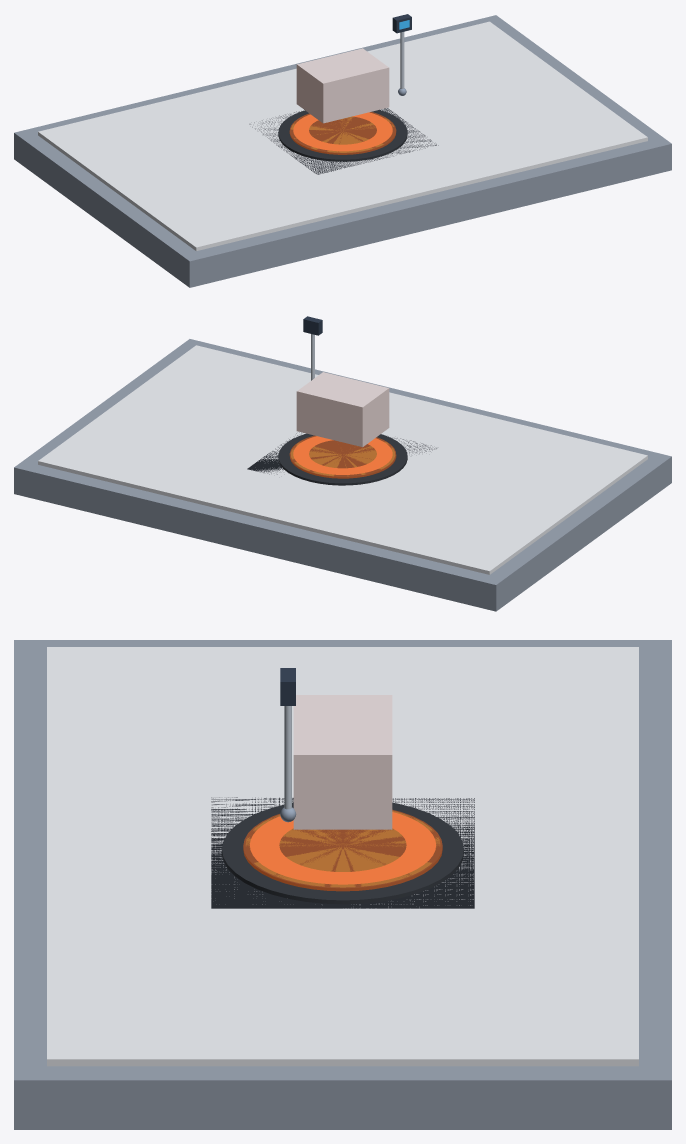
File: heat-aluminium-ar.glb
3 renders of one model, top to bottom at view 1: azimuth 30°, elevation 25°; view 2: azimuth 150°, elevation 25°; view 3: azimuth 270°, elevation 25°, orthographic. The views are drawn at different scales.
Parts seen in each view (by area): view 1: PlatformBase, HeaterAssembly, SolidBlock, TemperatureProbe, GlowHalo; view 2: PlatformBase, HeaterAssembly, SolidBlock, GlowHalo, TemperatureProbe; view 3: PlatformBase, HeaterAssembly, SolidBlock, GlowHalo, TemperatureProbe.
Part boxes in pixels (x1,y1,x2,y2): PlatformBase: (14, 15, 671, 287); HeaterAssembly: (249, 108, 438, 174); SolidBlock: (296, 48, 389, 123); TemperatureProbe: (392, 14, 411, 95); GlowHalo: (291, 117, 393, 152); PlatformBase: (14, 339, 671, 611); HeaterAssembly: (247, 432, 436, 485); SolidBlock: (296, 372, 389, 447); GlowHalo: (291, 442, 394, 475); TemperatureProbe: (303, 316, 322, 380); PlatformBase: (14, 640, 671, 1129); HeaterAssembly: (211, 797, 474, 908); SolidBlock: (293, 695, 392, 829); GlowHalo: (246, 811, 439, 887); TemperatureProbe: (280, 668, 296, 822).
Bounding box in the file's own units: 0.247 × 0.0721 × 0.156.
